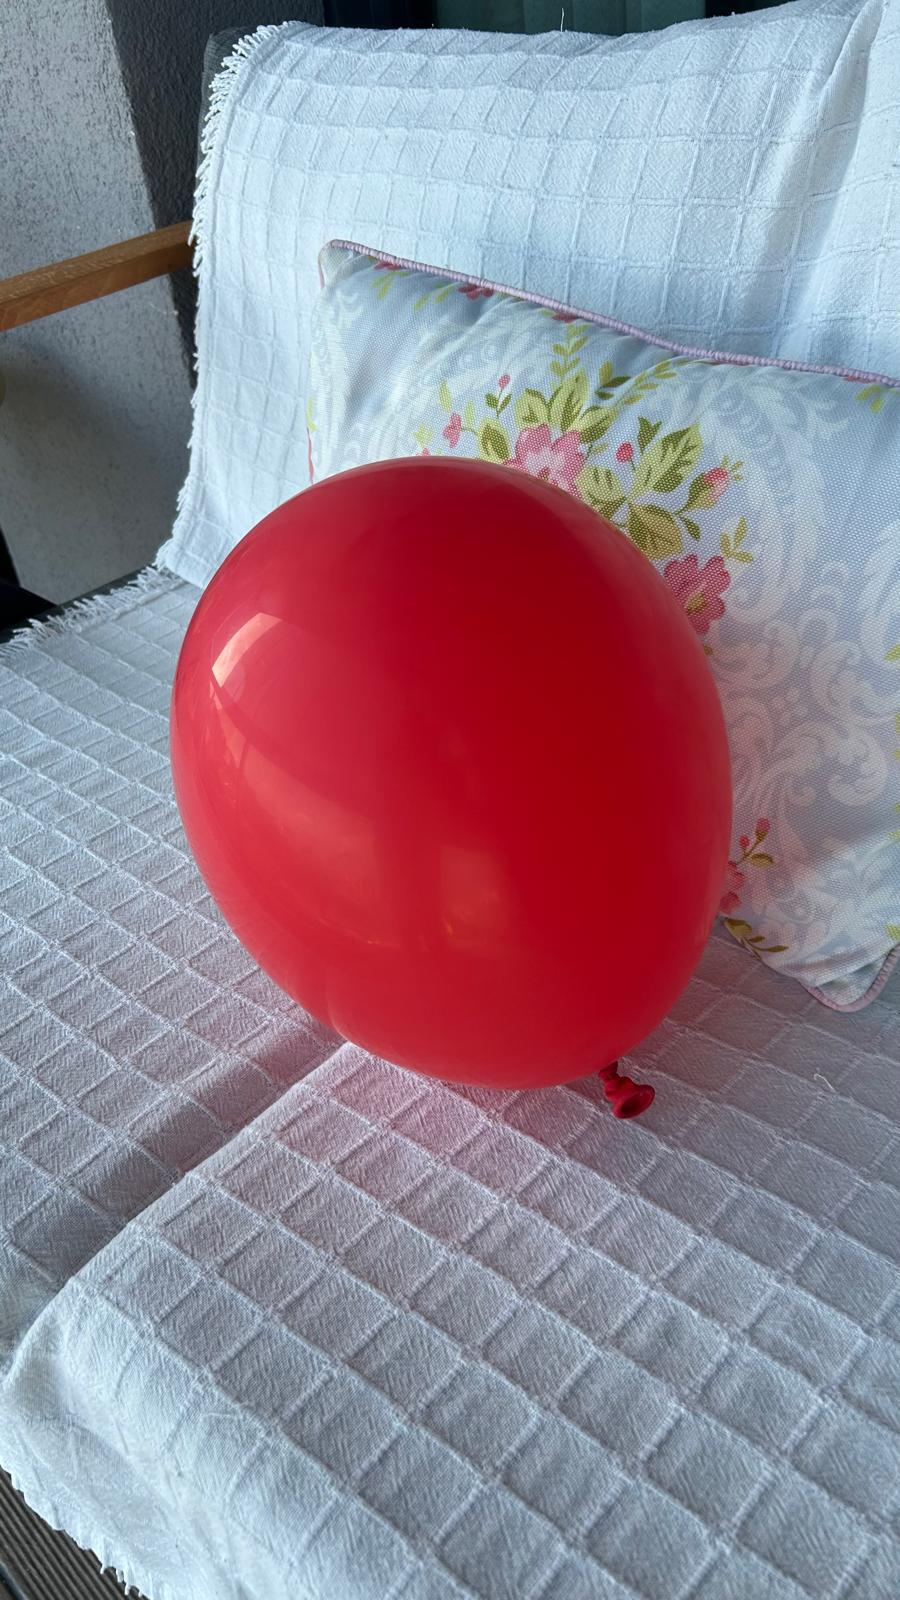red: (169, 445, 740, 1130)
